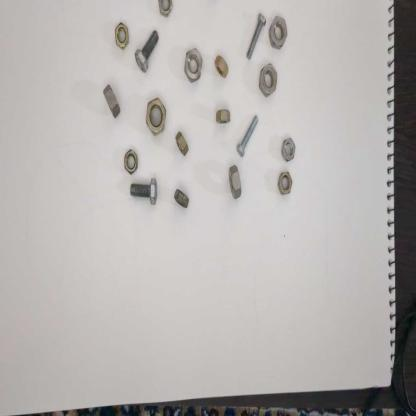Bolts: (133, 27, 161, 81), (235, 111, 262, 157), (246, 12, 267, 62), (126, 176, 160, 205)
NUTS: (144, 96, 168, 138), (258, 61, 280, 101), (100, 81, 121, 122), (183, 47, 203, 88), (268, 14, 289, 49), (226, 163, 244, 197), (113, 19, 130, 52), (214, 51, 231, 83), (277, 169, 294, 199), (123, 146, 139, 176), (174, 185, 190, 212), (281, 136, 297, 162), (174, 129, 188, 158), (158, 0, 176, 19), (214, 107, 231, 127)
